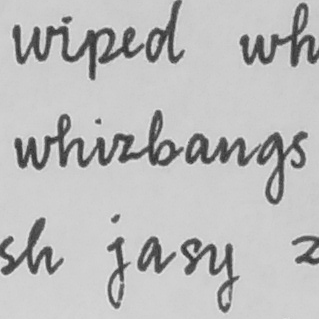a: (182, 131, 210, 166)
b: (143, 108, 180, 168)
g: (254, 129, 287, 207)
h: (54, 111, 86, 170)
i: (89, 115, 109, 167)
n: (215, 133, 248, 168)
s: (288, 129, 310, 171)
w: (13, 132, 52, 171)
z: (110, 131, 139, 165)
